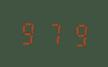nine: (18, 18, 40, 46), (65, 20, 87, 48)
seven: (42, 19, 64, 47)
